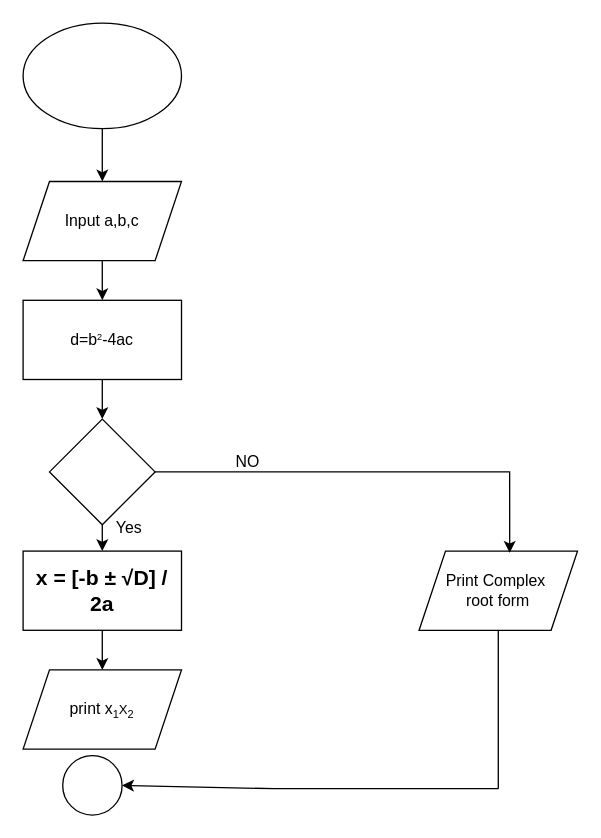
Some shapes in this 601 by 838 pixel diagram are drawn without their labels. Here are the shapes that lost their labels. From the top down, the box of each, then its label:
(22, 22, 182, 129): START
(48, 418, 155, 525): d>=0?
(61, 754, 122, 815): STOP
